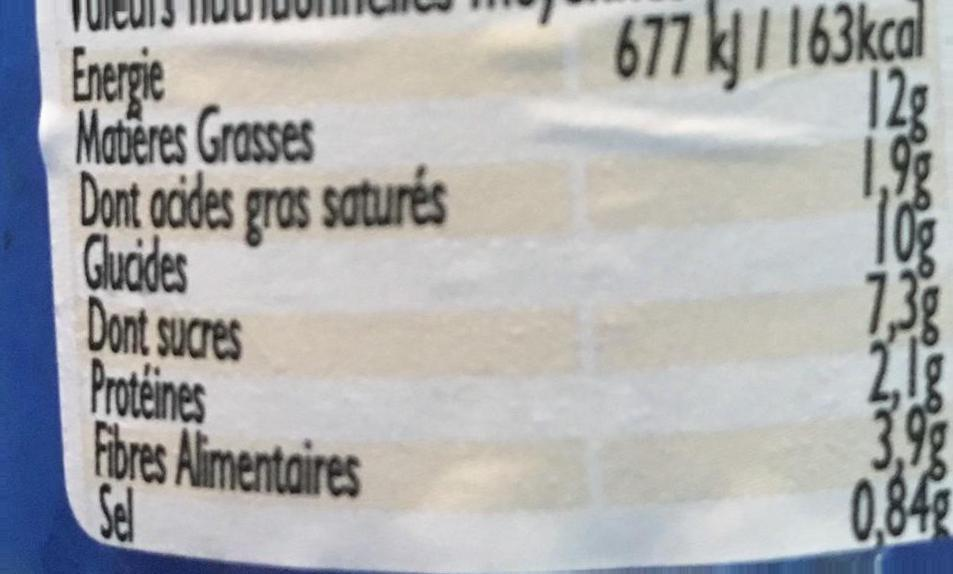column: (70, 46, 450, 552), (618, 7, 949, 541)
line: (75, 6, 932, 81), (89, 412, 946, 480), (90, 284, 944, 348), (81, 150, 932, 213), (78, 86, 928, 147), (80, 219, 942, 276), (91, 353, 937, 408), (88, 486, 948, 539)
table: (34, 1, 953, 574)
